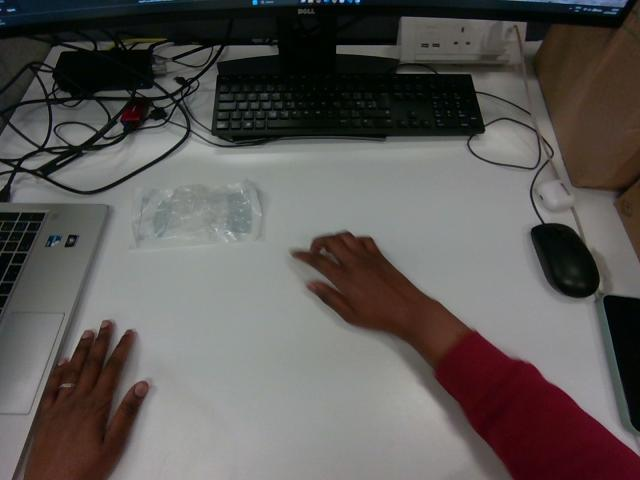gallipot: (132, 180, 261, 247)
